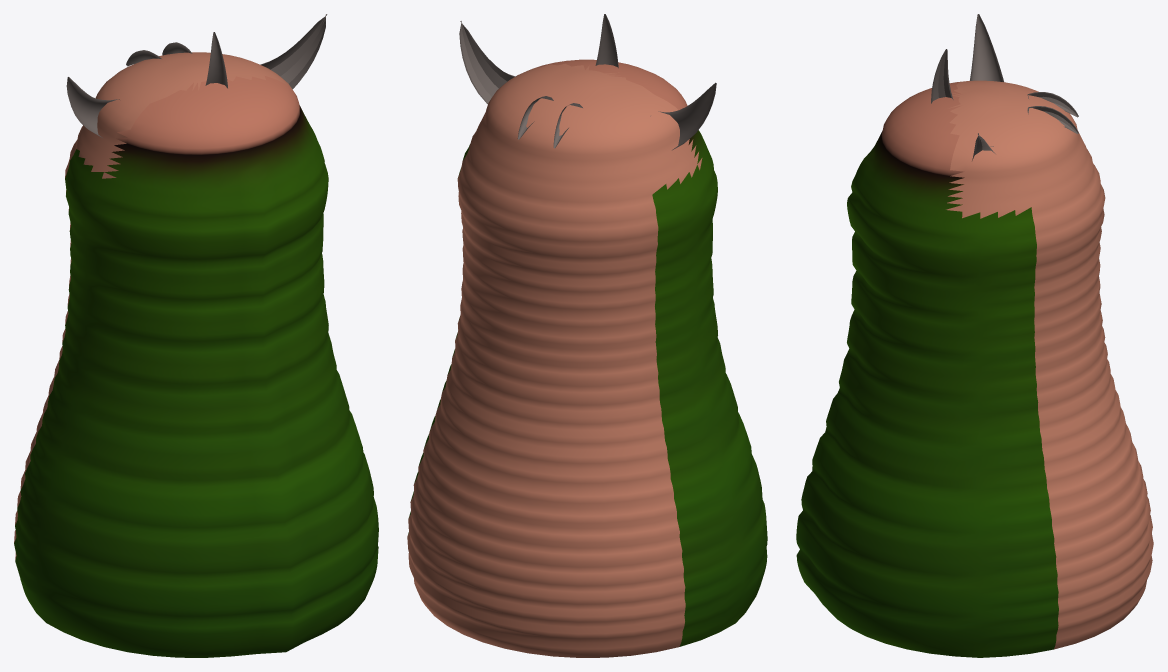
File: big-worm-turret.glb
3 views of the same model, side by side, from view 1: azimuth 30°, elevation 25°; view 2: azimuth 150°, elevation 25°; view 3: azimuth 270°, elevation 25° (orthographic). The views are drawn at different scales.
Visible parts, largest first — view 1: body; view 2: body; view 3: body.
Boxes of the visible parts, box(x1,y1,x2,y2) form: body: box(14, 14, 378, 657); body: box(407, 14, 767, 657); body: box(796, 14, 1153, 657).
Size of the model in its own units: 2.54 by 4.35 by 2.61.
